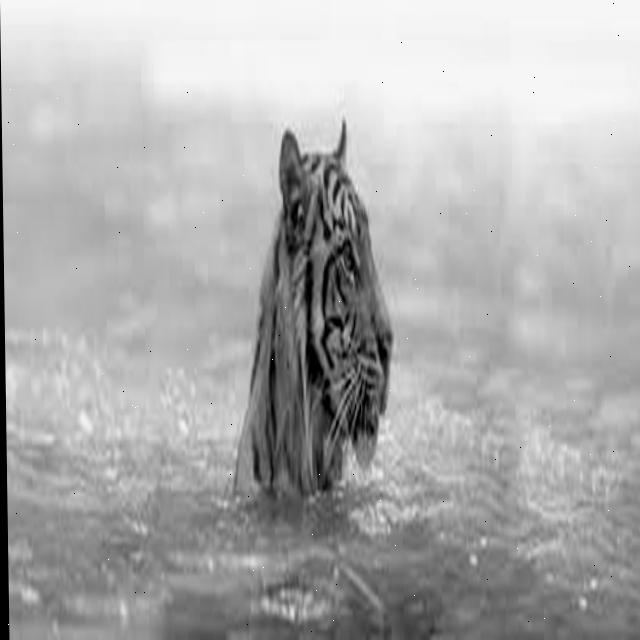Tiger: (225, 114, 396, 508)
